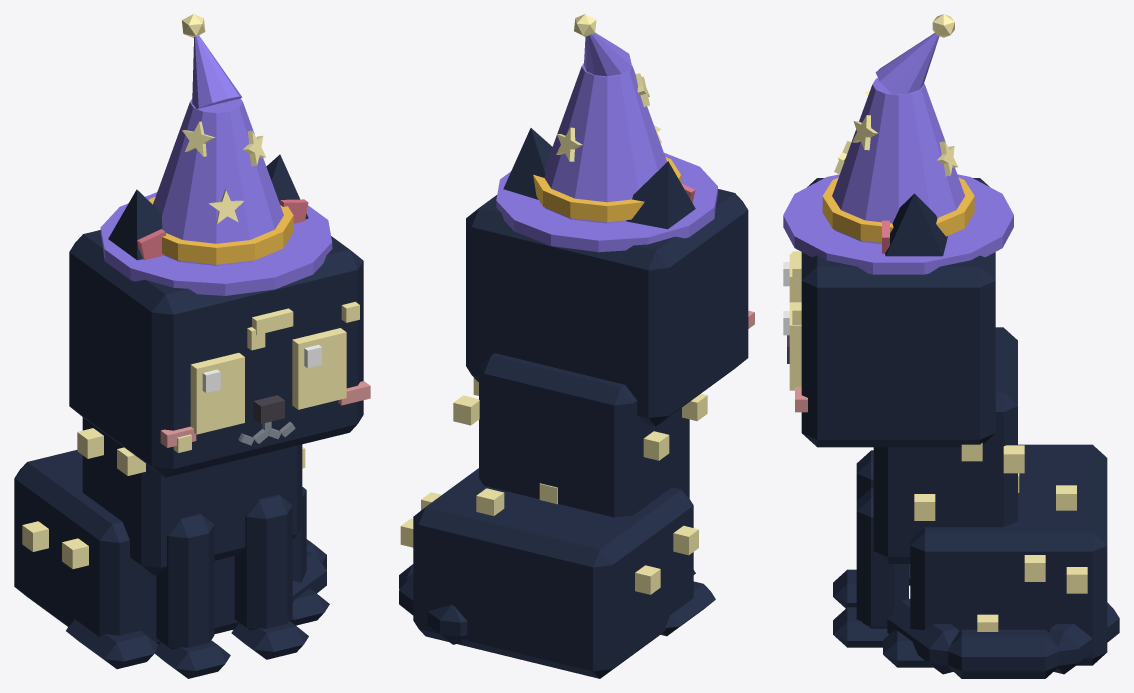
File: CatCafe_Cat_Midnight_Sit.glb
3 views of the same model, side by side, from view 1: azimuth 30°, elevation 25°; view 2: azimuth 150°, elevation 25°; view 3: azimuth 270°, elevation 25° (orthographic). The views are drawn at different scales.
Parts seen in each view (by area): view 1: CatCafe_Cat_Midnight_Sit_Head, CatCafe_Cat_Midnight_Sit_Body, CatCafe_Cat_Midnight_Sit_Prop, CatCafe_Cat_Midnight_Sit_LegF1, CatCafe_Cat_Midnight_Sit_LegF2, CatCafe_Cat_Midnight_Sit_Eye1, CatCafe_Cat_Midnight_Sit_Eye2, CatCafe_Cat_Midnight_Sit_EarR, CatCafe_Cat_Midnight_Sit_EarL, CatCafe_Cat_Midnight_Sit_Tail; view 2: CatCafe_Cat_Midnight_Sit_Body, CatCafe_Cat_Midnight_Sit_Head, CatCafe_Cat_Midnight_Sit_Prop, CatCafe_Cat_Midnight_Sit_EarR, CatCafe_Cat_Midnight_Sit_EarL, CatCafe_Cat_Midnight_Sit_Tail; view 3: CatCafe_Cat_Midnight_Sit_Body, CatCafe_Cat_Midnight_Sit_Head, CatCafe_Cat_Midnight_Sit_Prop, CatCafe_Cat_Midnight_Sit_Tail, CatCafe_Cat_Midnight_Sit_LegF1, CatCafe_Cat_Midnight_Sit_EarL, CatCafe_Cat_Midnight_Sit_LegF2, CatCafe_Cat_Midnight_Sit_Eye1, CatCafe_Cat_Midnight_Sit_Eye2.
Boxes of the visible parts, box(x1,y1,x2,y2) form: CatCafe_Cat_Midnight_Sit_Head: box(69, 230, 370, 477); CatCafe_Cat_Midnight_Sit_Body: box(14, 417, 329, 669); CatCafe_Cat_Midnight_Sit_Prop: box(100, 14, 332, 295); CatCafe_Cat_Midnight_Sit_LegF1: box(231, 494, 308, 659); CatCafe_Cat_Midnight_Sit_LegF2: box(154, 513, 230, 678); CatCafe_Cat_Midnight_Sit_Eye1: box(292, 328, 346, 409); CatCafe_Cat_Midnight_Sit_Eye2: box(190, 353, 244, 434); CatCafe_Cat_Midnight_Sit_EarR: box(108, 189, 166, 260); CatCafe_Cat_Midnight_Sit_EarL: box(266, 154, 308, 223); CatCafe_Cat_Midnight_Sit_Tail: box(292, 539, 326, 601); CatCafe_Cat_Midnight_Sit_Body: box(400, 353, 715, 678); CatCafe_Cat_Midnight_Sit_Head: box(466, 189, 754, 426); CatCafe_Cat_Midnight_Sit_Prop: box(496, 14, 717, 252); CatCafe_Cat_Midnight_Sit_EarR: box(626, 161, 695, 229); CatCafe_Cat_Midnight_Sit_EarL: box(503, 128, 552, 199); CatCafe_Cat_Midnight_Sit_Tail: box(399, 564, 467, 644); CatCafe_Cat_Midnight_Sit_Body: box(873, 327, 1107, 667); CatCafe_Cat_Midnight_Sit_Head: box(787, 178, 995, 447); CatCafe_Cat_Midnight_Sit_Prop: box(783, 14, 1013, 274); CatCafe_Cat_Midnight_Sit_Tail: box(887, 599, 1119, 678); CatCafe_Cat_Midnight_Sit_LegF1: box(833, 488, 908, 647); CatCafe_Cat_Midnight_Sit_EarL: box(882, 193, 947, 256); CatCafe_Cat_Midnight_Sit_LegF2: box(833, 450, 873, 608); CatCafe_Cat_Midnight_Sit_Eye1: box(783, 302, 801, 390); CatCafe_Cat_Midnight_Sit_Eye2: box(783, 253, 801, 302).
Bounding box in the file's own units: 1.08 × 2.43 × 1.22.
Materials: 1 (1 with a texture image).
